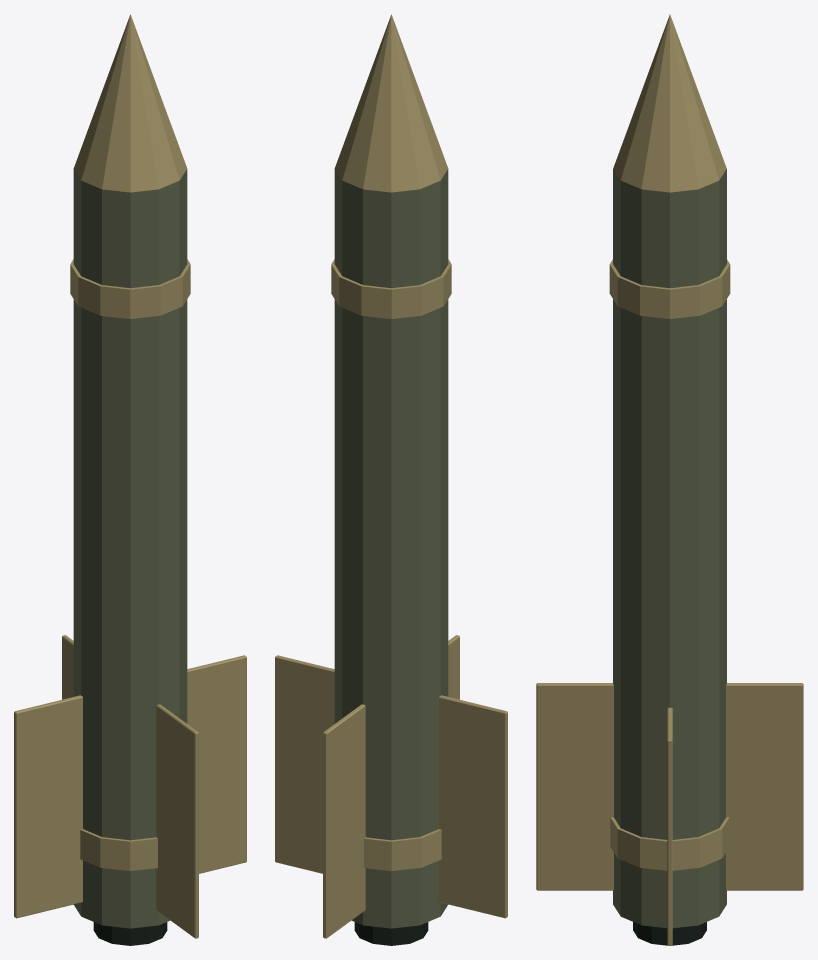
Rendered from projectile_sabot.obj.
3 renders of one model, left to right at view 1: azimuth 30°, elevation 25°; view 2: azimuth 150°, elevation 25°; view 3: azimuth 270°, elevation 25°, orthographic.
Parts seen in each view (by area): view 1: projectile_sabot; view 2: projectile_sabot; view 3: projectile_sabot.
Part boxes in pixels (bbox=[...]): projectile_sabot: bbox=[14, 14, 246, 945]; projectile_sabot: bbox=[275, 14, 507, 945]; projectile_sabot: bbox=[536, 14, 803, 945].
Bounding box in the file's own units: 0.329 × 1.25 × 0.329.
Materials: 1 (1 with a texture image).
